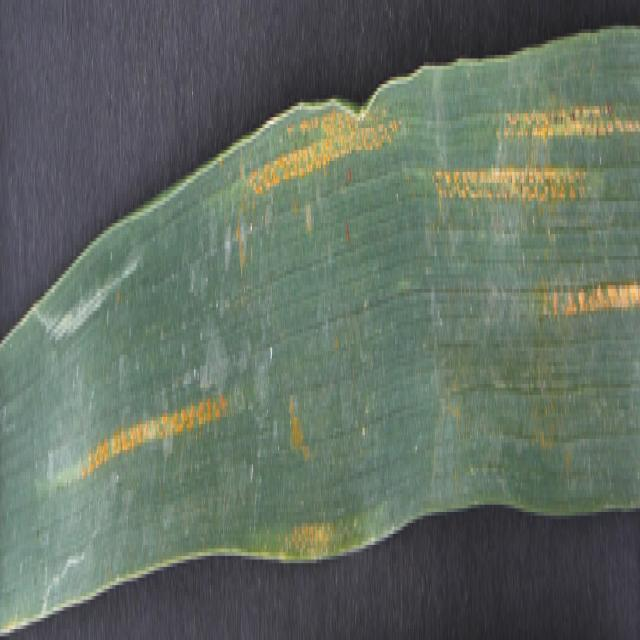leaf rust: (439, 73, 640, 344), (65, 362, 242, 519), (244, 91, 402, 234), (284, 377, 336, 567)
